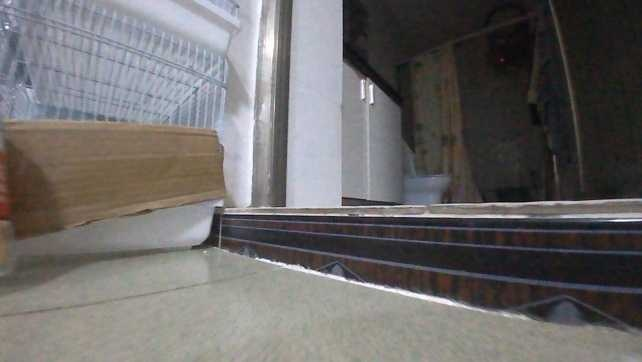toilet: (400, 140, 451, 205)
